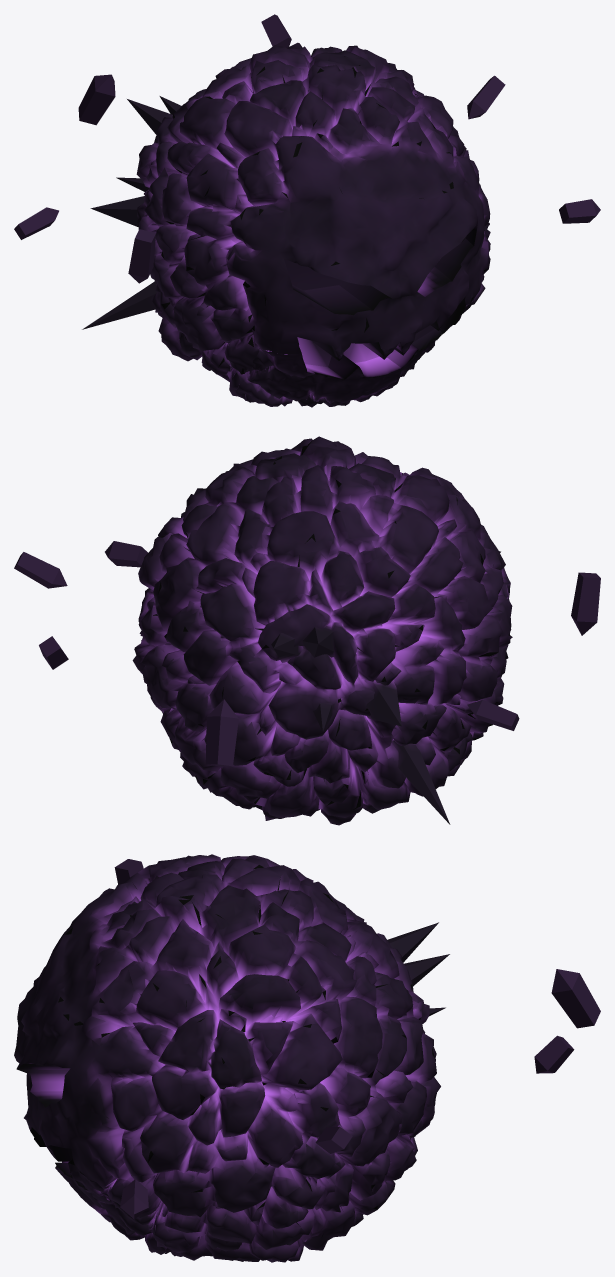
Rendered from Void.fbx.
3 views of the same model, one above another, from view 1: azimuth 30°, elevation 25°; view 2: azimuth 150°, elevation 25°; view 3: azimuth 270°, elevation 25° (orthographic). The views are drawn at different scales.
Visible parts, largest first — view 1: Body, Jaw; view 2: Body; view 3: Body, Jaw.
Part boxes in pixels (x1=…): Body: x1=14, y1=14, x2=600, y2=403; Jaw: x1=224, y1=299, x2=473, y2=407; Body: x1=14, y1=436, x2=600, y2=825; Body: x1=14, y1=854, x2=600, y2=1262; Jaw: x1=31, y1=1131, x2=165, y2=1254.
Size of the model in its own units: 1.57 by 1.01 by 1.46.
Materials: 2 (2 with a texture image).
